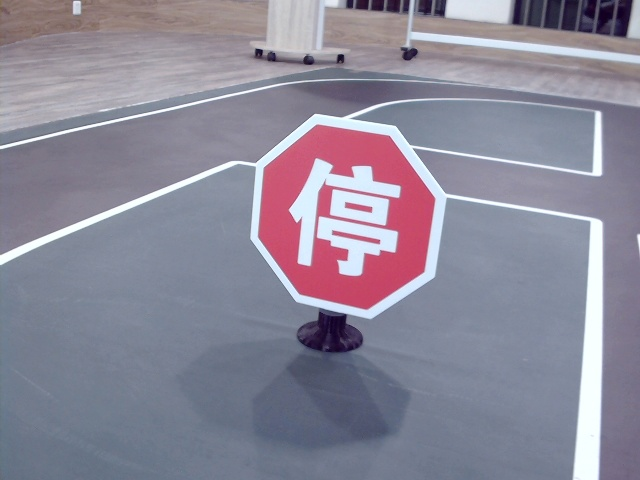stop: (285, 154, 402, 272)
